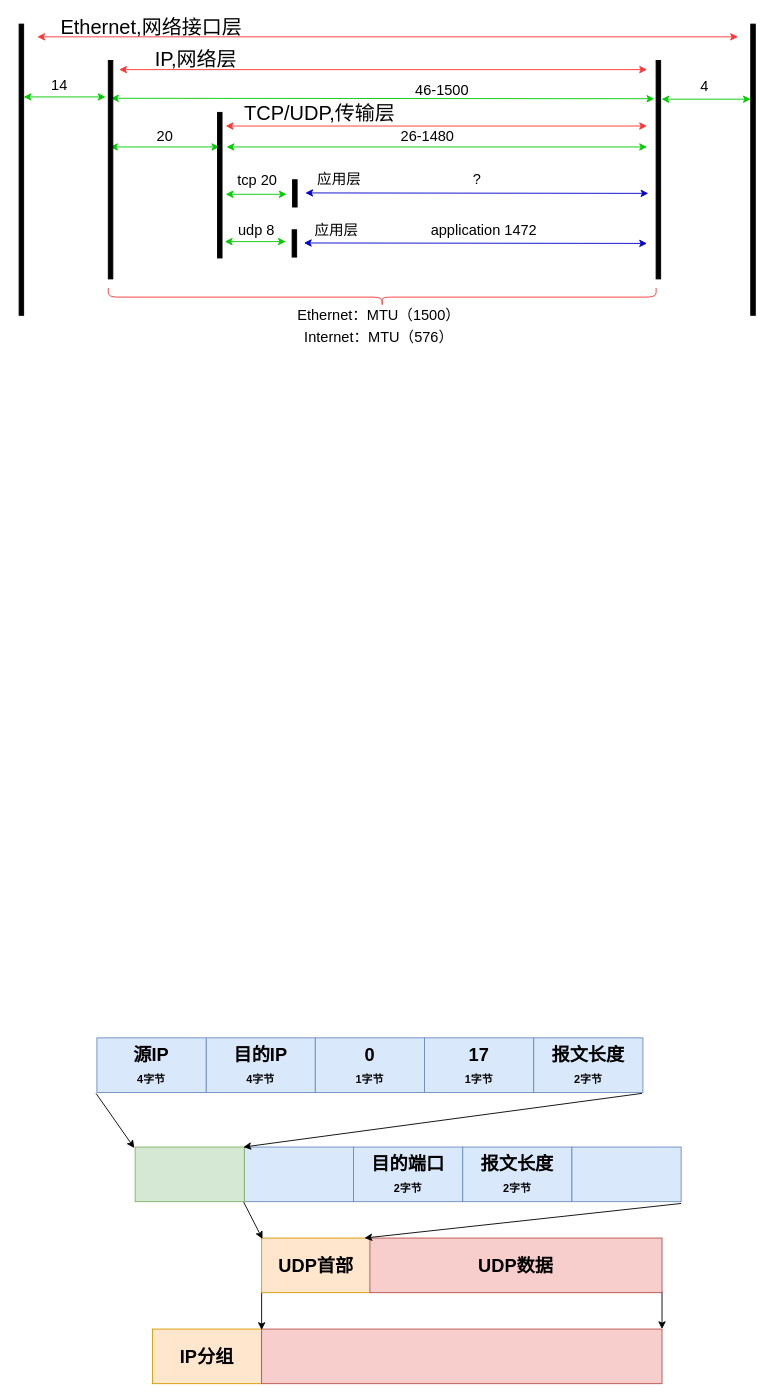
Some shapes in this 774 by 1400 pixel diagram are drawn without their labels. Each missing label, with the centre of its shape:
IP数据: the point at 461,1356
伪首部 12字节: the point at 189,1174
校验和 2字节: the point at 626,1174
源端口 2字节: the point at 298,1174
